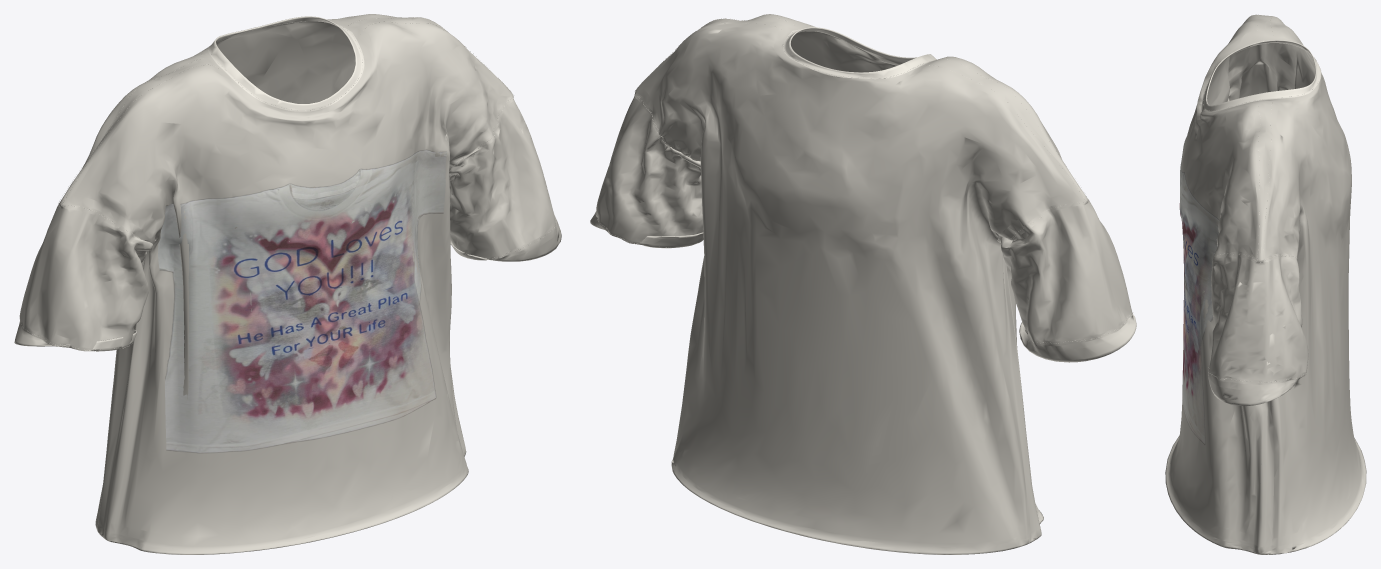
File: god-loves-you-tee.glb
3 renders of one model, left to right at view 1: azimuth 30°, elevation 25°; view 2: azimuth 150°, elevation 25°; view 3: azimuth 270°, elevation 25°, orthographic. The views are drawn at different scales.
Parts seen in each view (by area): view 1: Raw-hem heavyweight tee - cloth, Archive_Print_front_0; view 2: Raw-hem heavyweight tee - cloth; view 3: Raw-hem heavyweight tee - cloth, Archive_Print_front_0.
Boxes of the visible parts, bbox=[...] form: Raw-hem heavyweight tee - cloth: bbox=[14, 14, 561, 554]; Archive_Print_front_0: bbox=[158, 149, 446, 453]; Raw-hem heavyweight tee - cloth: bbox=[590, 14, 1136, 554]; Raw-hem heavyweight tee - cloth: bbox=[1165, 14, 1366, 554]; Archive_Print_front_0: bbox=[1179, 142, 1219, 444].
Bounding box in the file's own units: 0.7812 × 0.633 × 0.28.
4 materials, 1 textured.
